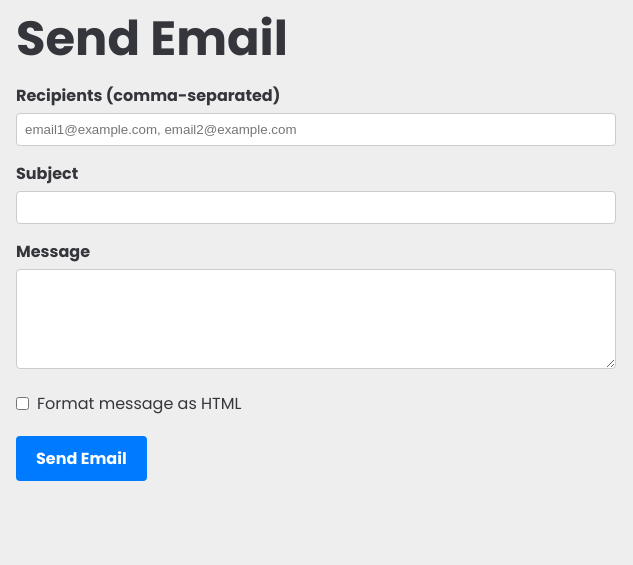
Test case: EmailForm › shows server error message for non-json unsuccessful response
Type "a@example.com" into the field labelled "Recipients (comma-separated)" at coordinates (316, 130), box [16, 113, 616, 146]
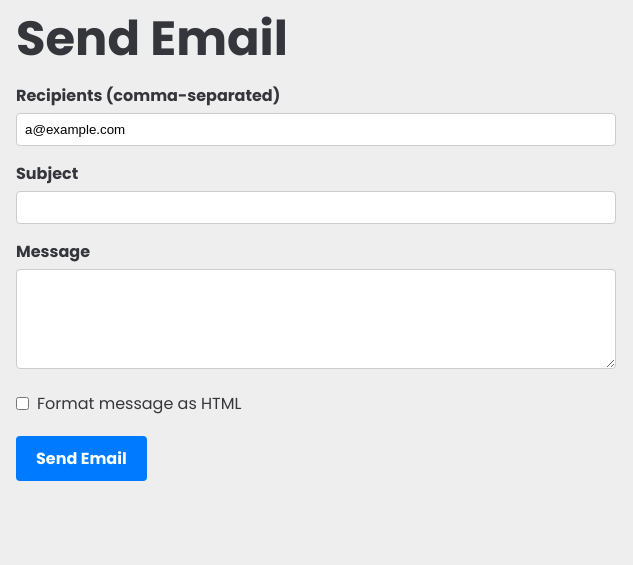
Type "Hello" into the field labelled "Subject" at coordinates (316, 208), box [16, 191, 616, 224]
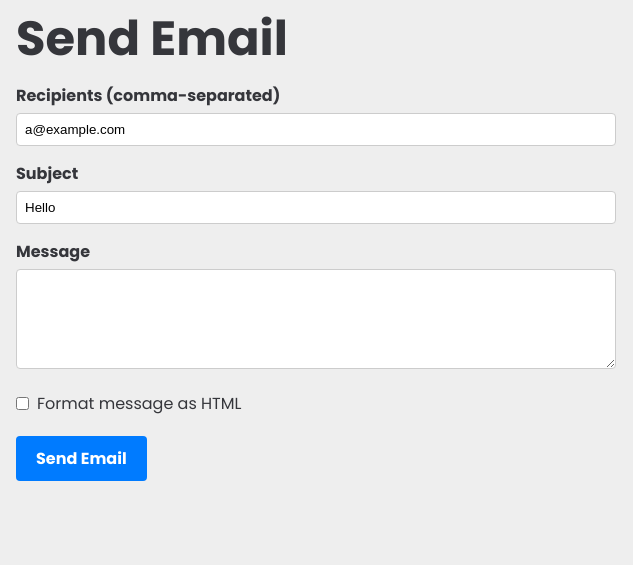
Type "Body" into the text box labelled "Message" at coordinates (316, 319), box [16, 269, 616, 369]
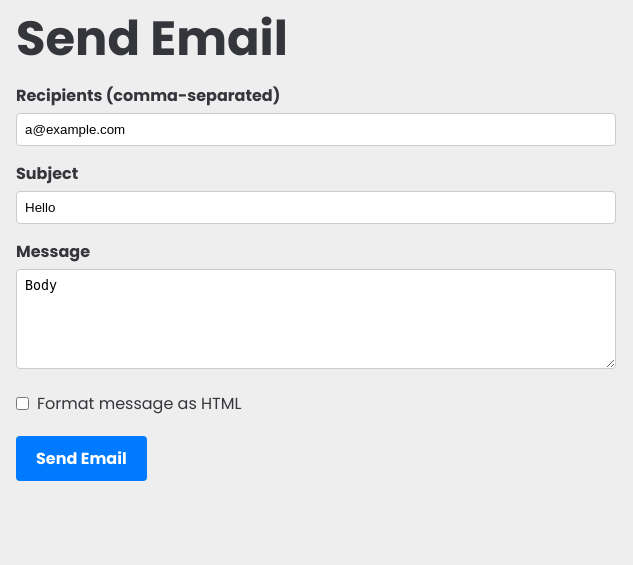
Submit the form
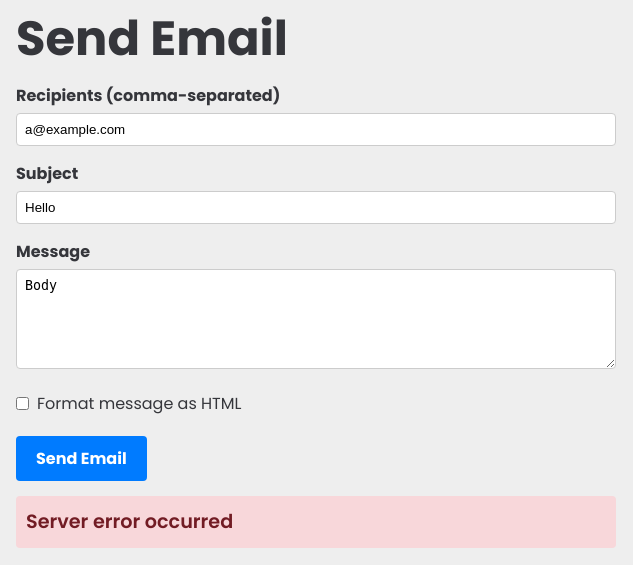
Now the text "Server error occurred" is shown, box [16, 496, 616, 548]
